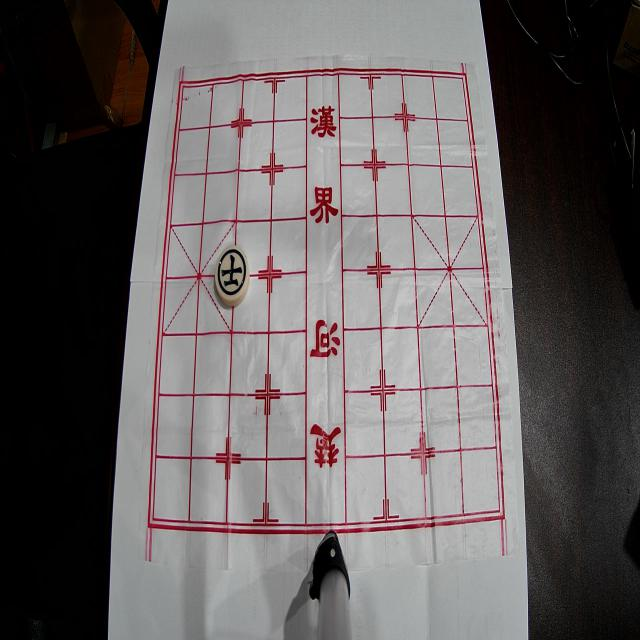black-guard: (215, 246, 249, 306)
